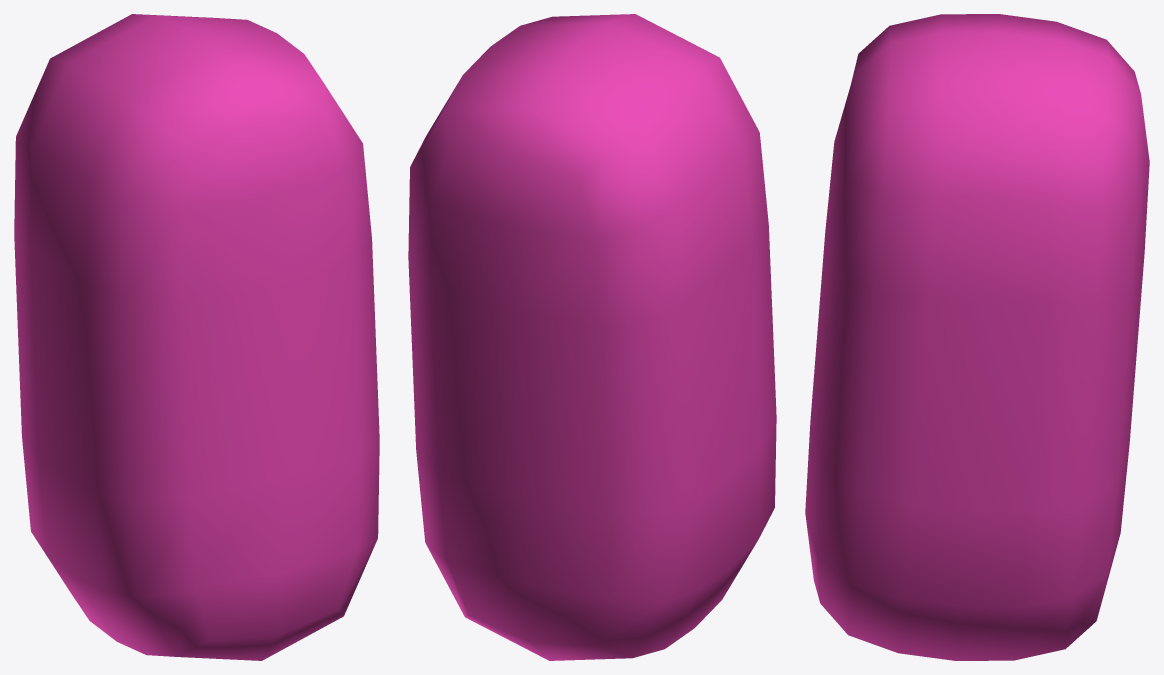
3 renders of one model, left to right at view 1: azimuth 30°, elevation 25°; view 2: azimuth 150°, elevation 25°; view 3: azimuth 270°, elevation 25°, orthographic.
Parts seen in each view (by area): view 1: Object_20; view 2: Object_20; view 3: Object_20.
Boxes of the visible parts, x1,y1,x2,y2 form: Object_20: (14,14,379,660); Object_20: (408,14,776,660); Object_20: (805,14,1149,660).
Size of the model in its own units: 0.4417 by 0.9298 by 0.4765.
